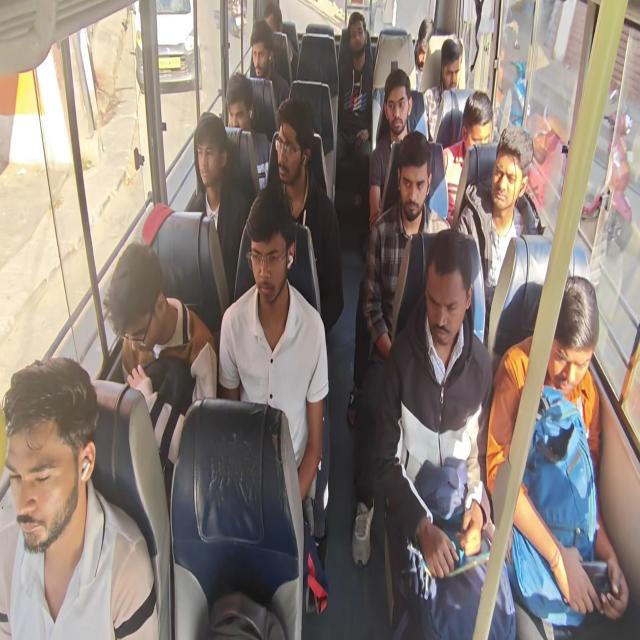person: (4, 374, 95, 551), (109, 248, 167, 354), (249, 198, 294, 308), (552, 283, 592, 404), (424, 240, 466, 350), (274, 119, 312, 190), (393, 146, 431, 216), (494, 132, 524, 220), (194, 114, 227, 182), (463, 94, 492, 160), (227, 81, 257, 132), (247, 29, 272, 82), (343, 11, 371, 58), (416, 21, 436, 84), (441, 46, 461, 96), (388, 84, 409, 129), (262, 3, 287, 37)
